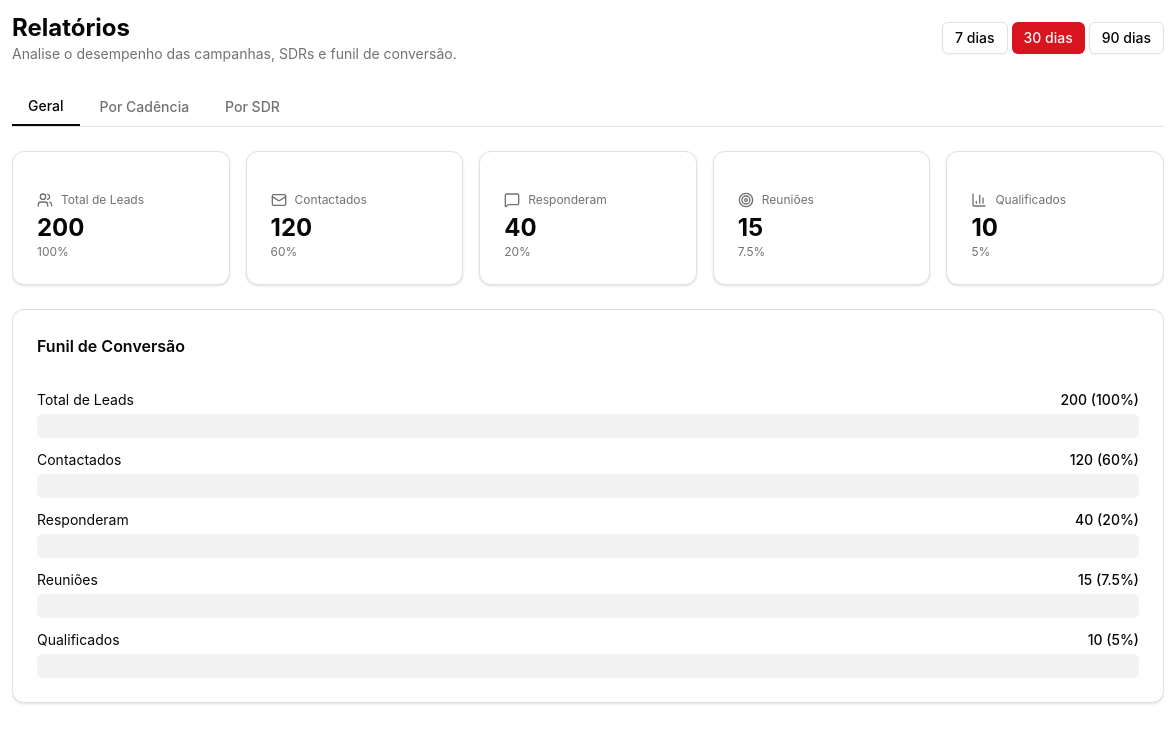
Test: ReportsView › export CSV button › shows export button when on Por Cadência tab
The image size is (1176, 732).
Click the button "Por Cadência".
click(144, 107)  # box [84,88,205,126]
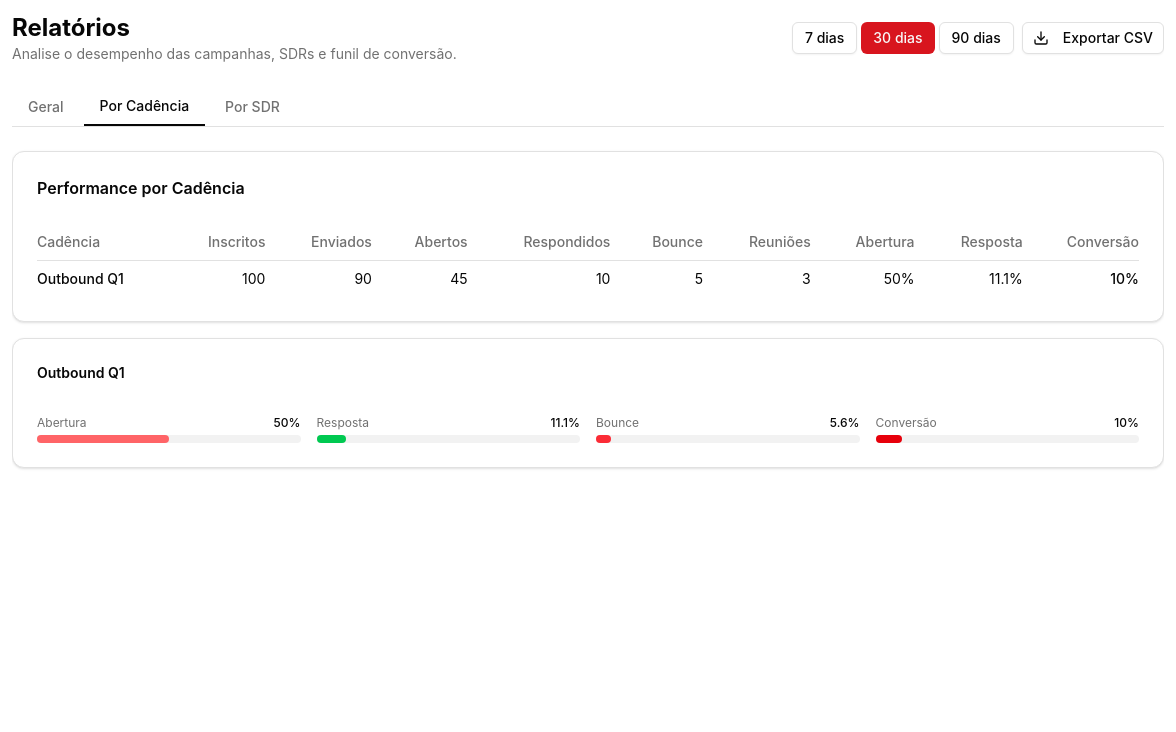
Now the button "Exportar CSV" is shown, box [1022,22,1164,54]
